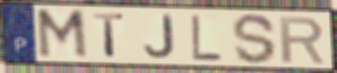J: (143, 14, 176, 60)
L: (190, 12, 225, 63)
M: (34, 7, 91, 61)
R: (277, 15, 327, 65)
S: (231, 12, 278, 66)
T: (92, 11, 127, 59)
